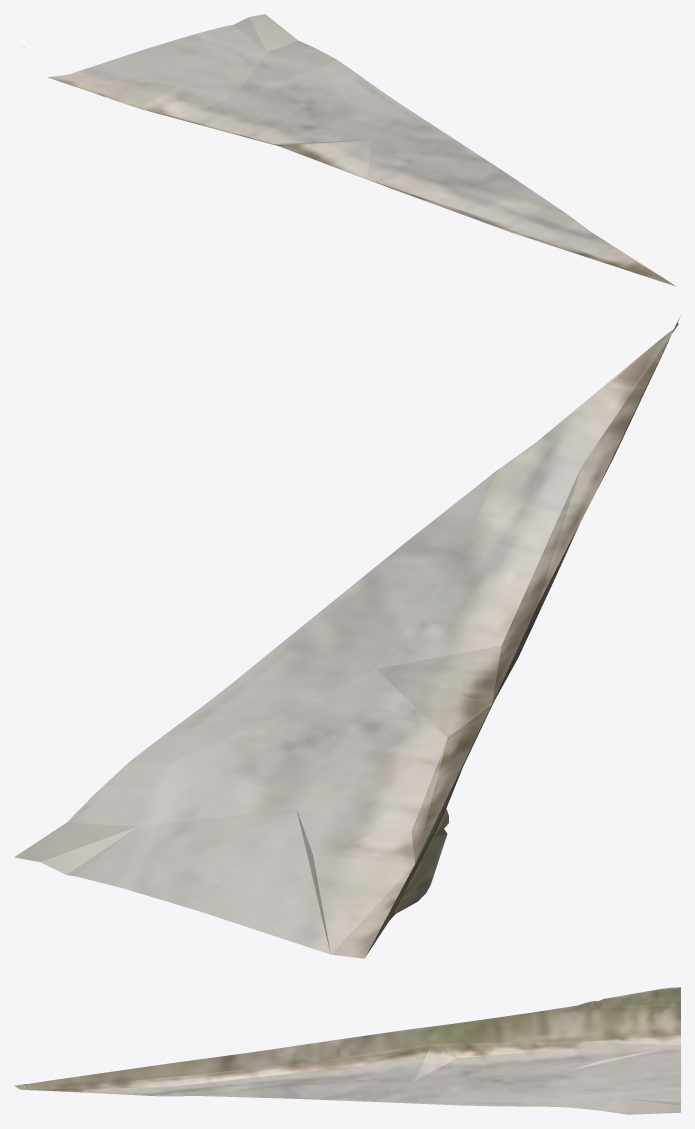
The picture shows the model from 3 angles, top to bottom: view 1: azimuth 30°, elevation 25°; view 2: azimuth 150°, elevation 25°; view 3: azimuth 270°, elevation 25°; orthographic projection. The views are drawn at different scales.
Size of the model in its own units: 2.52 by 0.4418 by 7.22.
Materials: 1 (1 with a texture image).
